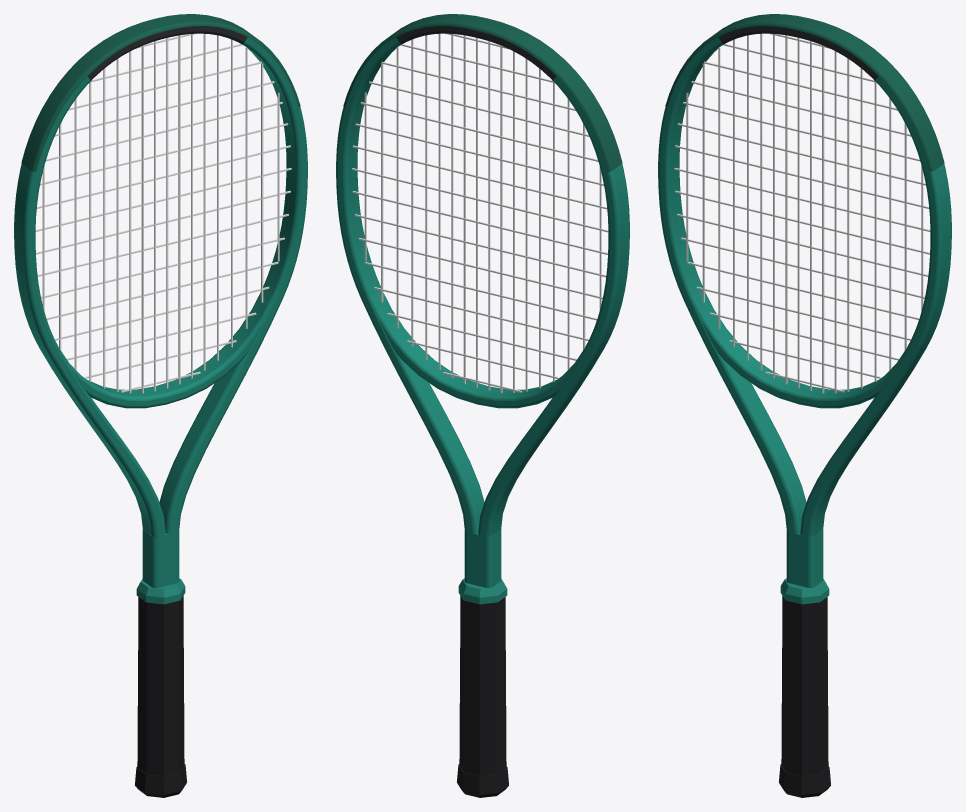
The model's file is wilson-blade-98s-v9.glb.
3 renders of one model, left to right at view 1: azimuth 30°, elevation 25°; view 2: azimuth 150°, elevation 25°; view 3: azimuth 330°, elevation 25°, orthographic.
Parts seen in each view (by area): view 1: frame, strings_mains, strings_crosses, grip, bumper, butt_cap, collar; view 2: frame, strings_mains, strings_crosses, grip, bumper, butt_cap, collar; view 3: frame, strings_mains, strings_crosses, grip, bumper, butt_cap, collar.
Boxes of the visible parts, x1,y1,x2,y2 form: frame: (14, 26, 307, 587); strings_mains: (42, 33, 279, 393); strings_crosses: (35, 33, 291, 392); grip: (137, 596, 184, 775); bumper: (21, 14, 300, 171); butt_cap: (135, 764, 186, 797); collar: (136, 578, 185, 604); frame: (336, 26, 629, 587); strings_mains: (364, 33, 601, 392); strings_crosses: (352, 33, 608, 392); grip: (459, 596, 506, 775); bumper: (343, 14, 622, 171); butt_cap: (457, 764, 508, 797); collar: (458, 578, 507, 604); frame: (658, 26, 951, 587); strings_mains: (686, 33, 923, 393); strings_crosses: (674, 33, 930, 392); grip: (781, 596, 828, 775); bumper: (665, 14, 944, 171); butt_cap: (779, 764, 830, 797); collar: (780, 578, 829, 604).
Size of the model in its own units: 0.2662 by 0.6861 by 0.0396.
